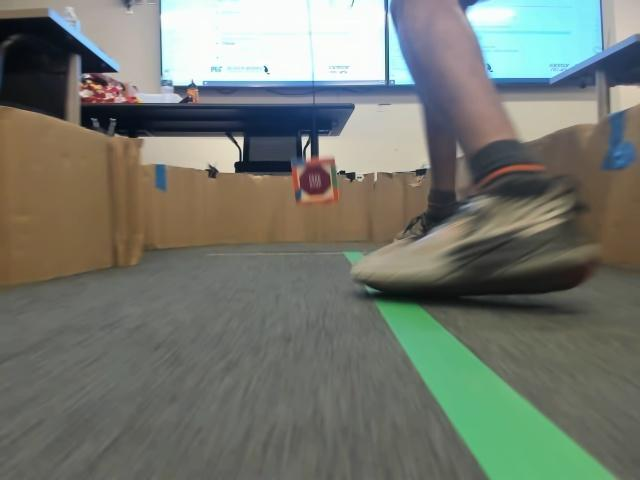Fake Stop: (298, 166, 329, 195)
